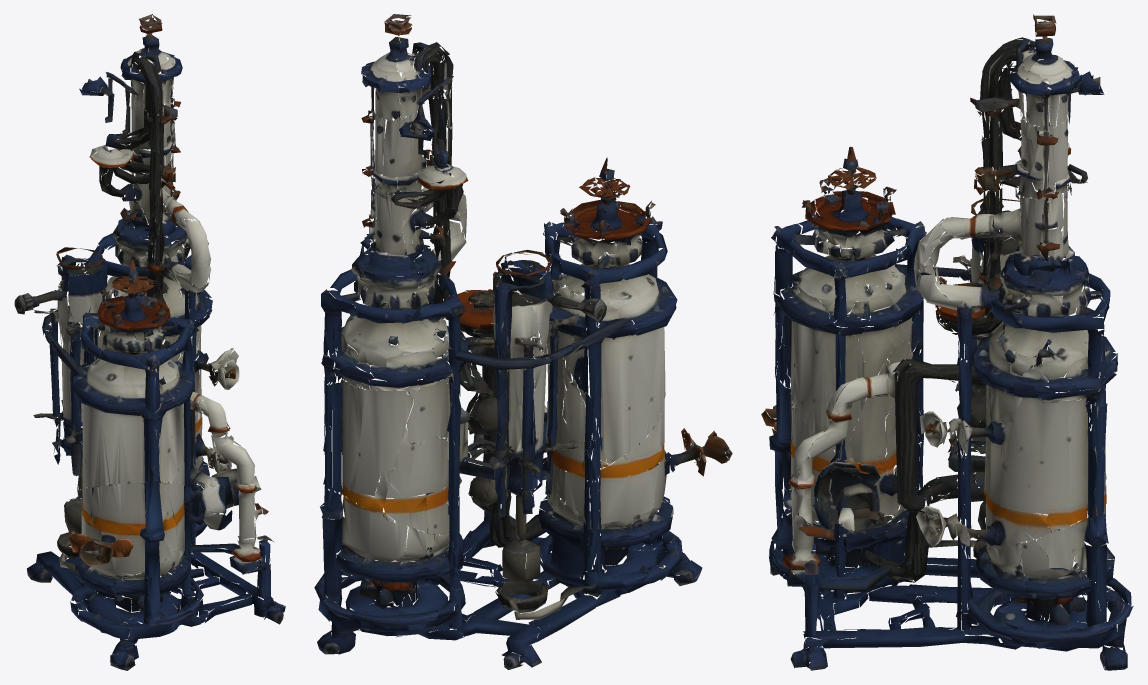
File: abyssal_pressure_relay.glb
3 renders of one model, left to right at view 1: azimuth 30°, elevation 25°; view 2: azimuth 150°, elevation 25°; view 3: azimuth 270°, elevation 25°, orthographic. The views are drawn at different scales.
Parts seen in each view (by area): view 1: tripo_node_baa90ddb-e3eb-46fc-a18c-1150822fe22c; view 2: tripo_node_baa90ddb-e3eb-46fc-a18c-1150822fe22c; view 3: tripo_node_baa90ddb-e3eb-46fc-a18c-1150822fe22c.
Part boxes in pixels (x1,y1,x2,y2): tripo_node_baa90ddb-e3eb-46fc-a18c-1150822fe22c: (14,14,285,670); tripo_node_baa90ddb-e3eb-46fc-a18c-1150822fe22c: (314,14,732,669); tripo_node_baa90ddb-e3eb-46fc-a18c-1150822fe22c: (761,14,1133,670).
Size of the model in its own units: 3.59 by 7.62 by 4.04.
1 material, 1 textured.
